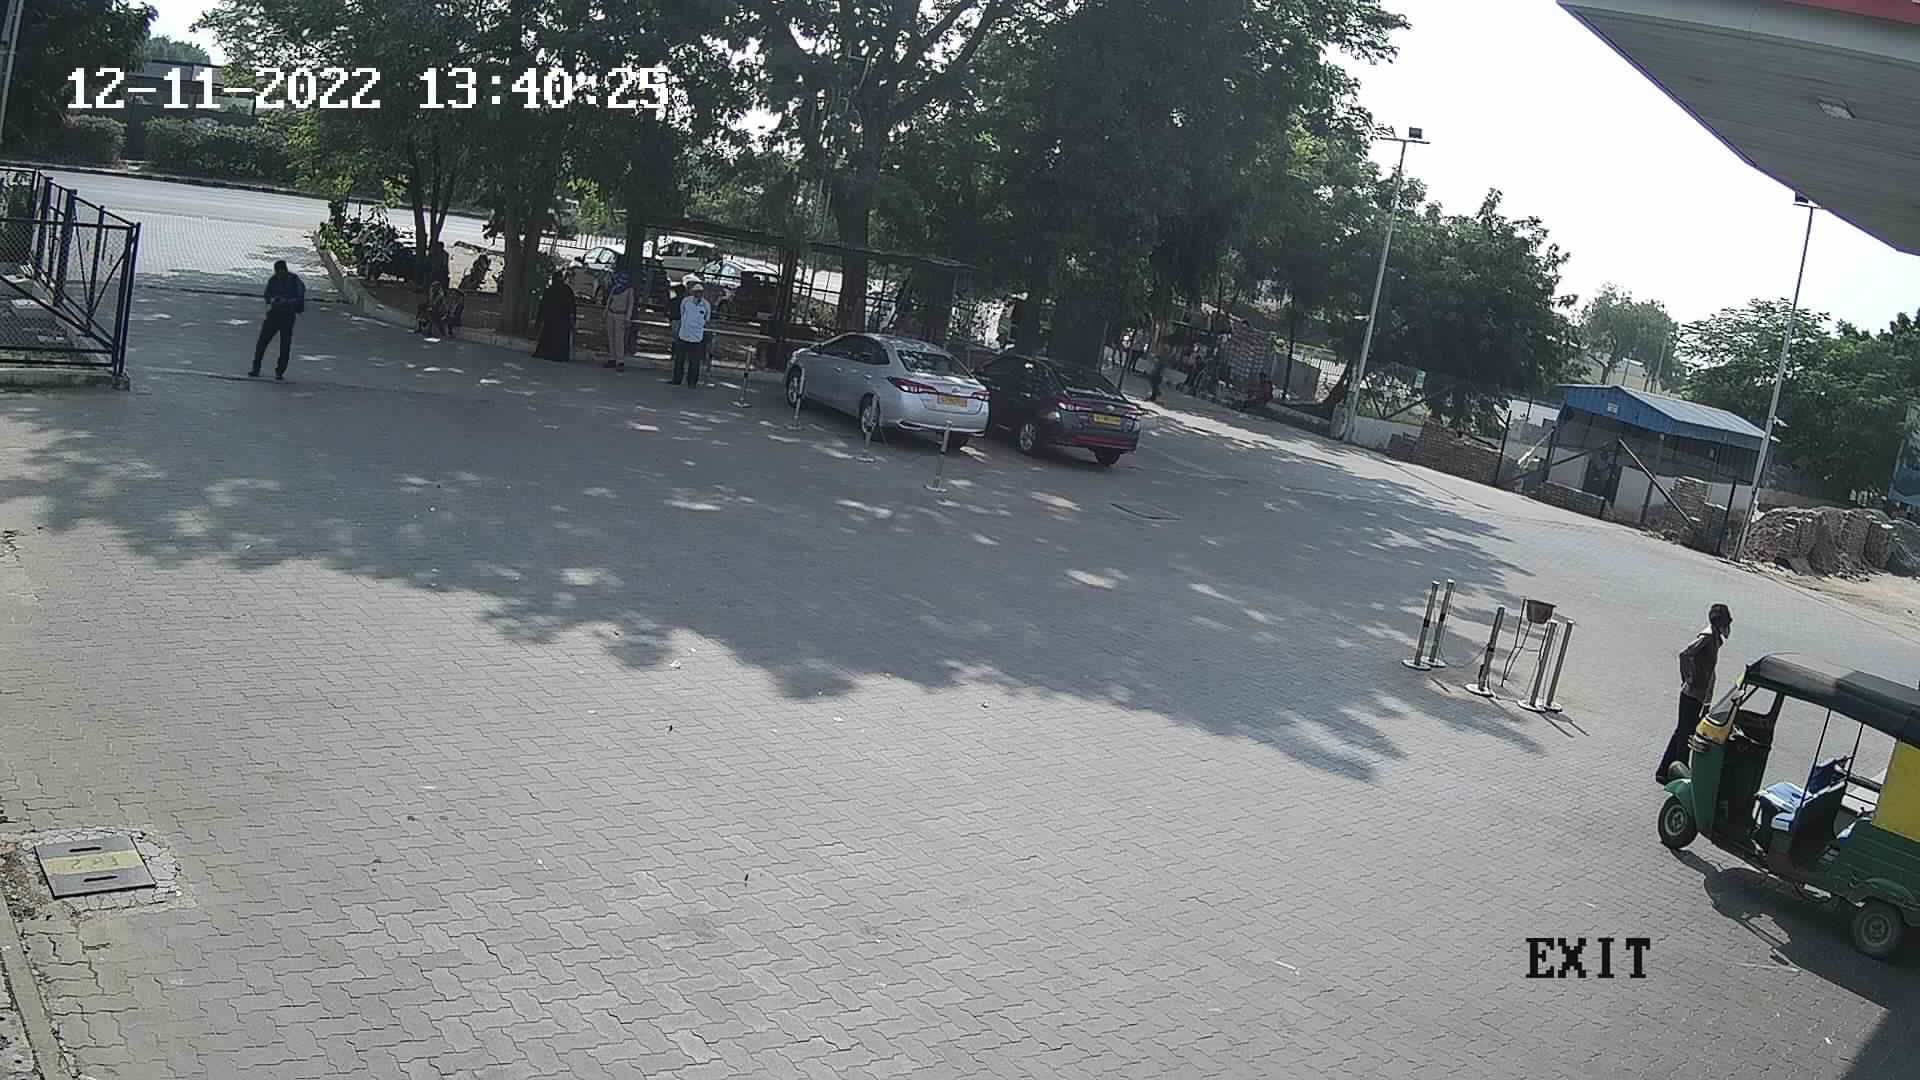Auto: (1650, 632, 1920, 978)
Car: (775, 311, 1006, 458), (964, 339, 1151, 472), (657, 251, 785, 320), (640, 220, 727, 295), (543, 237, 636, 302)
